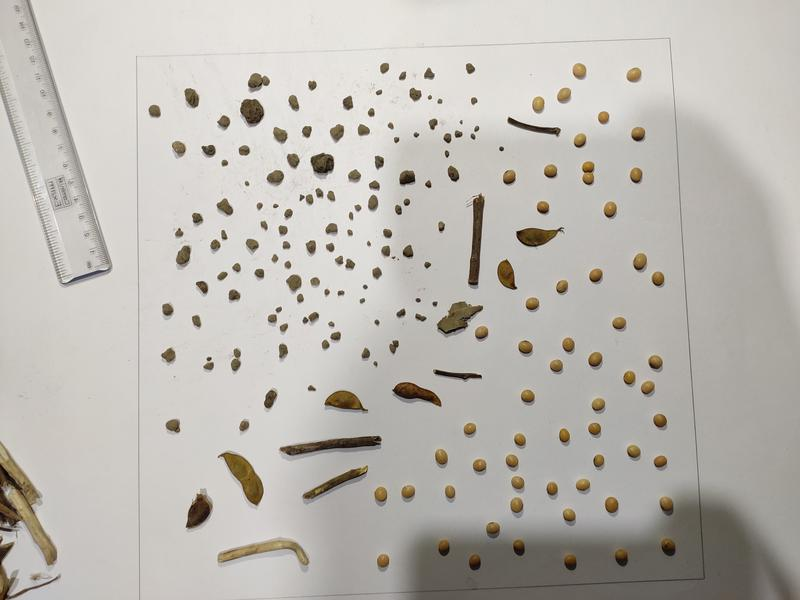Kadi: (217, 449, 266, 507), (217, 537, 310, 566), (302, 465, 369, 504), (279, 435, 383, 457), (466, 194, 487, 287), (503, 112, 563, 141), (437, 301, 485, 337), (391, 382, 443, 407), (513, 226, 567, 248), (324, 391, 369, 412), (186, 492, 211, 528), (496, 257, 520, 292), (433, 367, 483, 380)
Moti Mitti: (241, 99, 264, 126), (311, 154, 335, 174), (184, 88, 200, 109), (175, 246, 190, 267), (216, 198, 233, 215), (399, 169, 416, 185), (286, 274, 302, 291), (266, 170, 285, 184), (264, 389, 277, 409), (166, 417, 181, 433), (286, 151, 300, 168), (248, 73, 263, 88), (161, 347, 176, 362), (148, 103, 162, 119), (330, 124, 344, 140), (274, 127, 288, 143), (357, 123, 371, 138), (195, 281, 210, 295), (173, 141, 186, 157), (217, 115, 231, 129), (288, 95, 300, 111), (192, 212, 205, 226), (201, 145, 217, 156), (323, 223, 339, 234), (423, 67, 436, 80), (410, 87, 422, 101), (347, 169, 362, 180), (375, 155, 386, 170), (306, 240, 317, 255), (278, 344, 289, 359), (247, 239, 259, 252), (162, 304, 174, 317), (229, 289, 241, 302), (302, 125, 313, 139), (372, 267, 383, 280), (343, 96, 353, 110), (428, 117, 438, 131), (239, 145, 250, 157), (466, 62, 476, 75), (231, 359, 241, 372), (192, 314, 201, 328), (369, 195, 378, 209), (210, 240, 221, 251), (255, 268, 266, 279), (404, 245, 413, 258), (369, 180, 380, 190), (278, 224, 288, 235), (309, 311, 319, 322), (331, 331, 342, 341), (380, 62, 389, 74), (362, 347, 371, 359), (240, 420, 249, 432), (283, 208, 293, 218), (325, 242, 335, 252), (268, 314, 278, 324), (310, 277, 320, 287), (396, 308, 406, 318), (307, 81, 318, 90), (305, 193, 314, 204), (327, 190, 336, 201), (282, 240, 291, 251), (346, 259, 355, 270), (416, 313, 427, 322), (348, 209, 355, 222), (315, 188, 324, 198), (260, 221, 269, 231), (233, 349, 242, 359), (204, 362, 214, 371), (321, 340, 330, 350), (444, 132, 452, 143), (217, 272, 228, 280), (395, 204, 403, 215), (383, 229, 392, 238), (279, 323, 288, 332), (262, 76, 270, 86), (382, 246, 390, 256), (389, 343, 396, 354), (399, 71, 407, 80), (455, 129, 463, 138), (438, 222, 446, 231), (307, 384, 316, 392), (221, 230, 228, 240), (232, 264, 242, 271), (335, 256, 343, 264), (272, 254, 279, 263), (297, 294, 304, 303), (404, 198, 410, 208), (387, 122, 395, 129), (244, 180, 252, 187), (176, 229, 183, 237), (354, 205, 362, 212), (276, 306, 283, 314), (392, 340, 399, 348), (369, 108, 375, 117), (394, 136, 400, 145), (444, 150, 450, 159), (372, 360, 379, 367), (425, 180, 431, 188), (257, 202, 263, 210), (327, 321, 335, 327), (222, 159, 228, 166), (474, 125, 480, 132), (285, 261, 291, 268), (347, 230, 354, 236), (425, 262, 431, 269), (324, 289, 330, 296), (432, 301, 439, 307), (375, 90, 383, 95), (300, 194, 305, 202), (471, 98, 477, 104), (302, 317, 308, 323), (413, 133, 420, 138), (471, 133, 476, 140), (273, 204, 280, 209), (338, 290, 345, 295), (359, 298, 366, 303), (363, 284, 368, 290), (499, 146, 504, 152), (206, 357, 213, 361), (367, 240, 371, 246), (416, 299, 422, 303), (375, 319, 379, 325), (428, 95, 432, 100), (438, 98, 442, 103), (392, 256, 396, 260), (397, 258, 400, 261), (460, 120, 462, 124)
Soybean: (571, 62, 589, 79), (373, 485, 388, 503), (563, 554, 578, 572), (661, 538, 676, 556), (633, 252, 647, 271), (512, 538, 526, 557), (615, 548, 629, 567), (400, 484, 416, 500), (626, 67, 643, 82), (603, 201, 618, 218), (468, 554, 483, 571), (660, 496, 675, 513), (532, 96, 546, 114), (518, 340, 534, 355), (520, 389, 536, 404), (485, 521, 501, 536), (653, 454, 669, 469), (472, 458, 487, 473), (626, 444, 641, 459), (651, 271, 665, 287), (588, 351, 602, 367), (434, 449, 448, 465), (376, 553, 390, 569), (575, 478, 591, 492), (605, 497, 619, 513), (562, 508, 576, 524), (437, 539, 450, 556), (543, 164, 558, 178), (612, 316, 627, 330), (623, 370, 637, 385), (641, 381, 656, 395), (503, 169, 516, 185), (631, 127, 645, 141), (475, 326, 489, 340), (649, 355, 663, 369), (511, 476, 525, 490), (558, 88, 571, 103), (589, 268, 602, 283), (562, 338, 575, 353), (588, 423, 603, 436), (559, 428, 571, 444), (511, 498, 523, 514), (525, 297, 539, 310), (550, 359, 563, 373), (654, 414, 667, 428), (546, 482, 559, 496), (574, 133, 586, 148), (630, 168, 642, 183), (591, 398, 606, 410), (556, 280, 569, 293), (462, 423, 476, 435), (598, 111, 610, 124), (583, 173, 595, 186), (537, 201, 549, 214), (514, 434, 527, 446), (506, 455, 518, 468), (582, 162, 596, 173), (593, 454, 604, 468), (445, 485, 456, 499)
